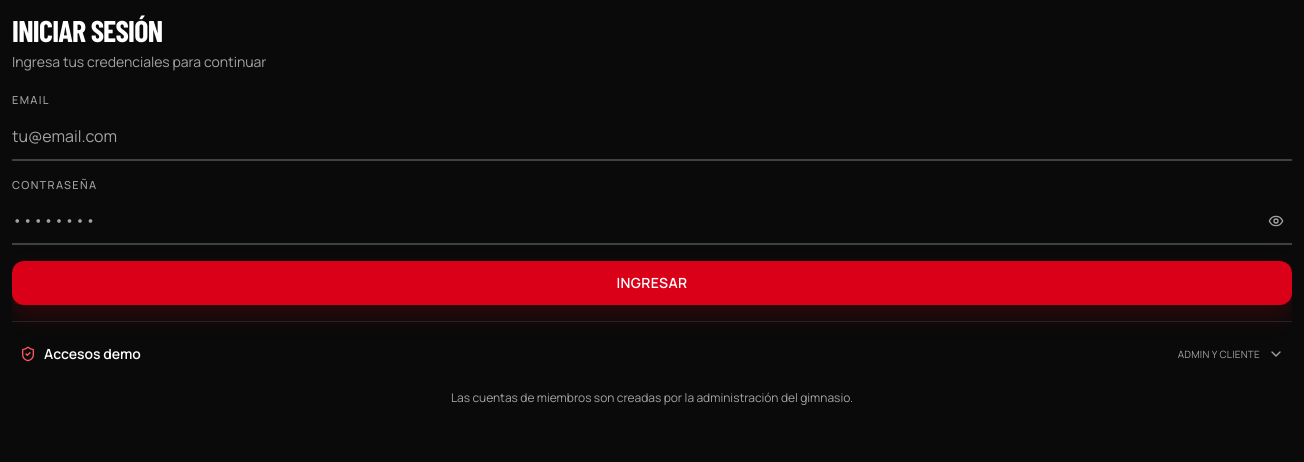
Test: LoginPage › shows validation errors before submit
Click the button with test id "login-submit" at (652, 283), box [12, 261, 1292, 305]
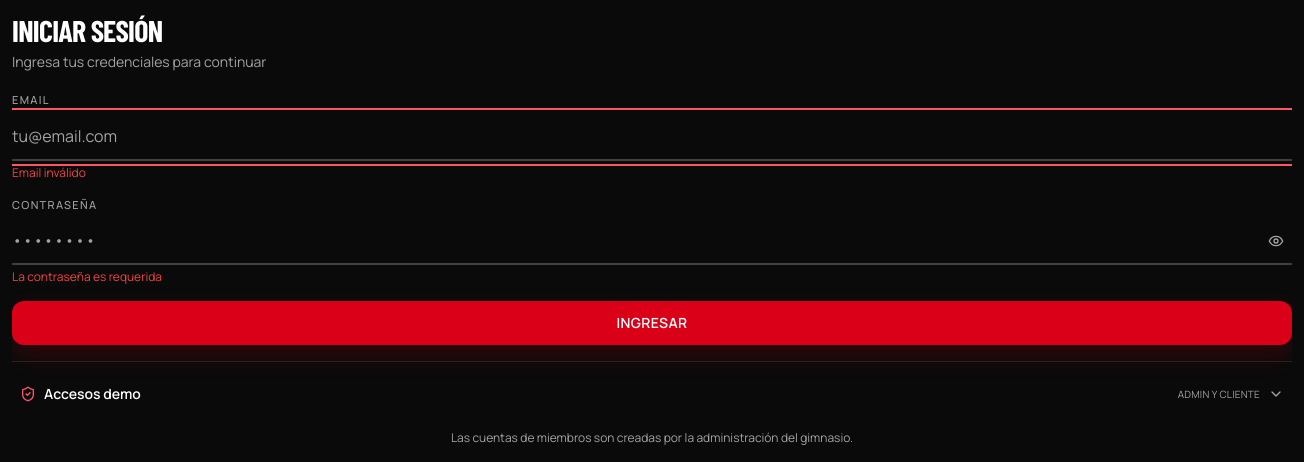
Check: the text with test id "email-error" reads "Email inválido", box [12, 164, 86, 180]
Check: the text with test id "password-error" reads "La contraseña es requerida", box [12, 268, 162, 285]
